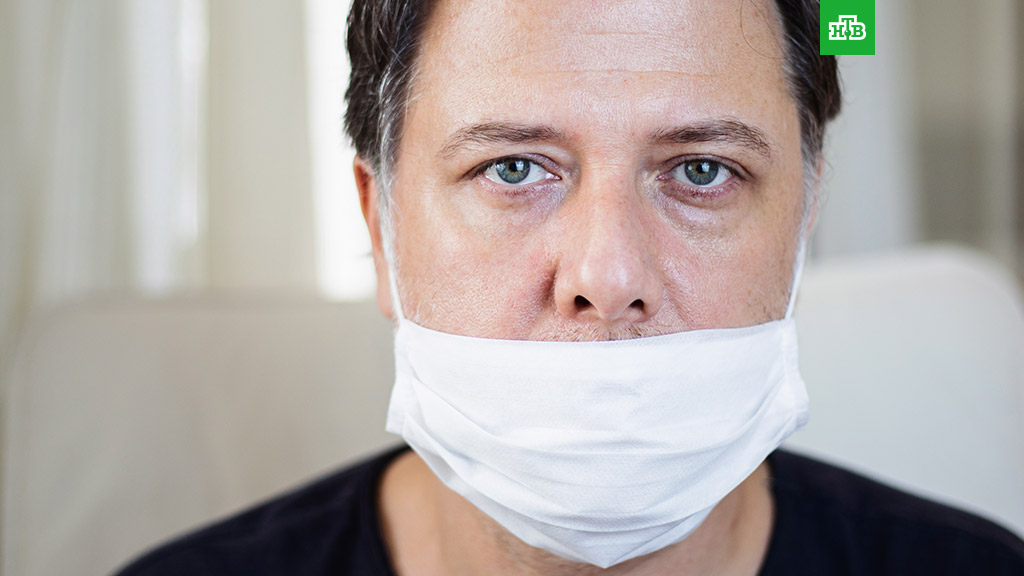with_incorrect_mask: (424, 73, 779, 503)
